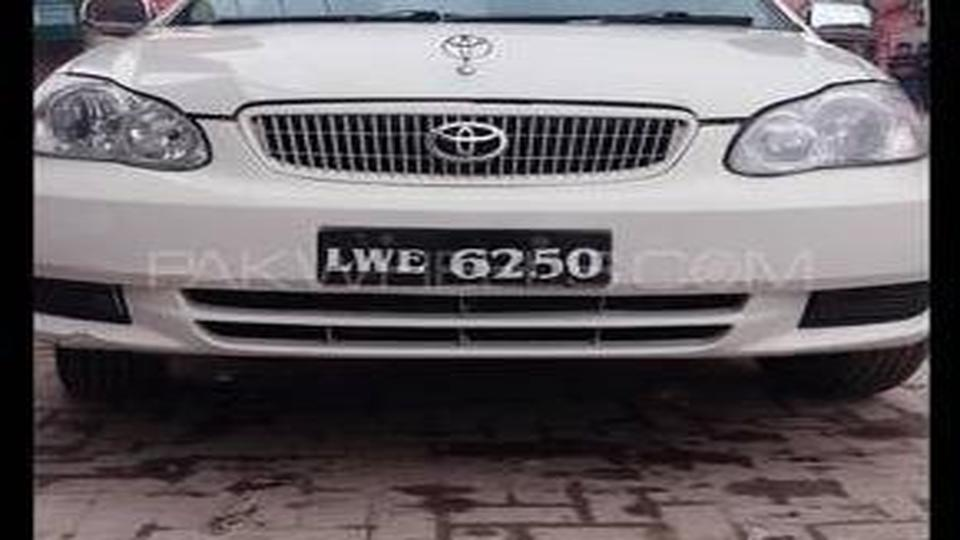NumberPlate: (315, 217, 624, 309)
